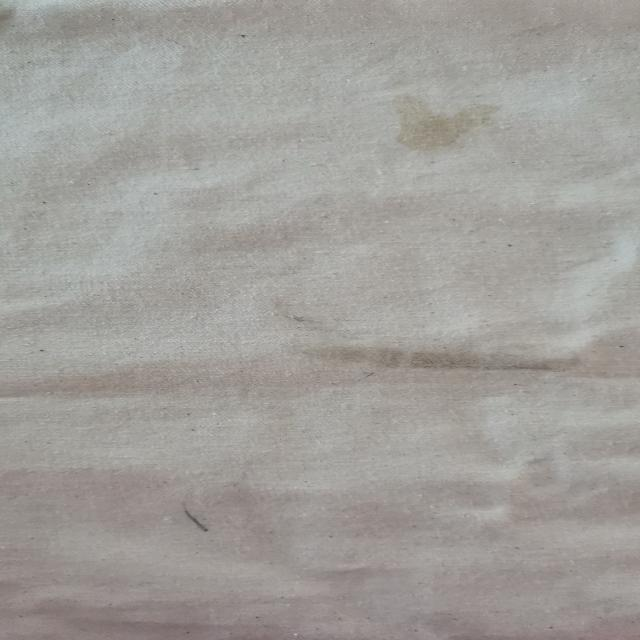taaaches: (291, 347, 629, 384), (383, 86, 520, 162), (253, 296, 345, 341), (160, 496, 218, 539)
